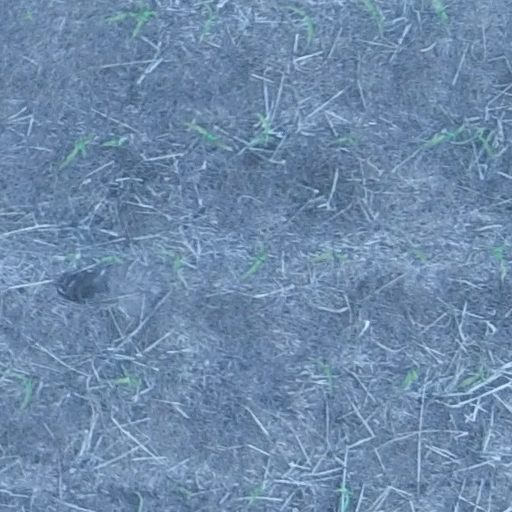planta: (104, 3, 155, 36), (1, 370, 33, 410), (185, 122, 228, 150), (280, 4, 315, 36), (60, 134, 93, 167), (420, 126, 464, 147), (249, 113, 272, 147), (243, 244, 266, 277), (473, 126, 496, 156), (107, 367, 142, 386), (458, 367, 488, 387), (305, 250, 350, 263), (156, 248, 182, 269), (397, 367, 418, 393), (200, 5, 216, 36), (330, 133, 359, 149), (313, 358, 333, 379), (404, 246, 428, 262), (487, 244, 506, 264), (101, 136, 124, 148), (99, 254, 121, 262)
